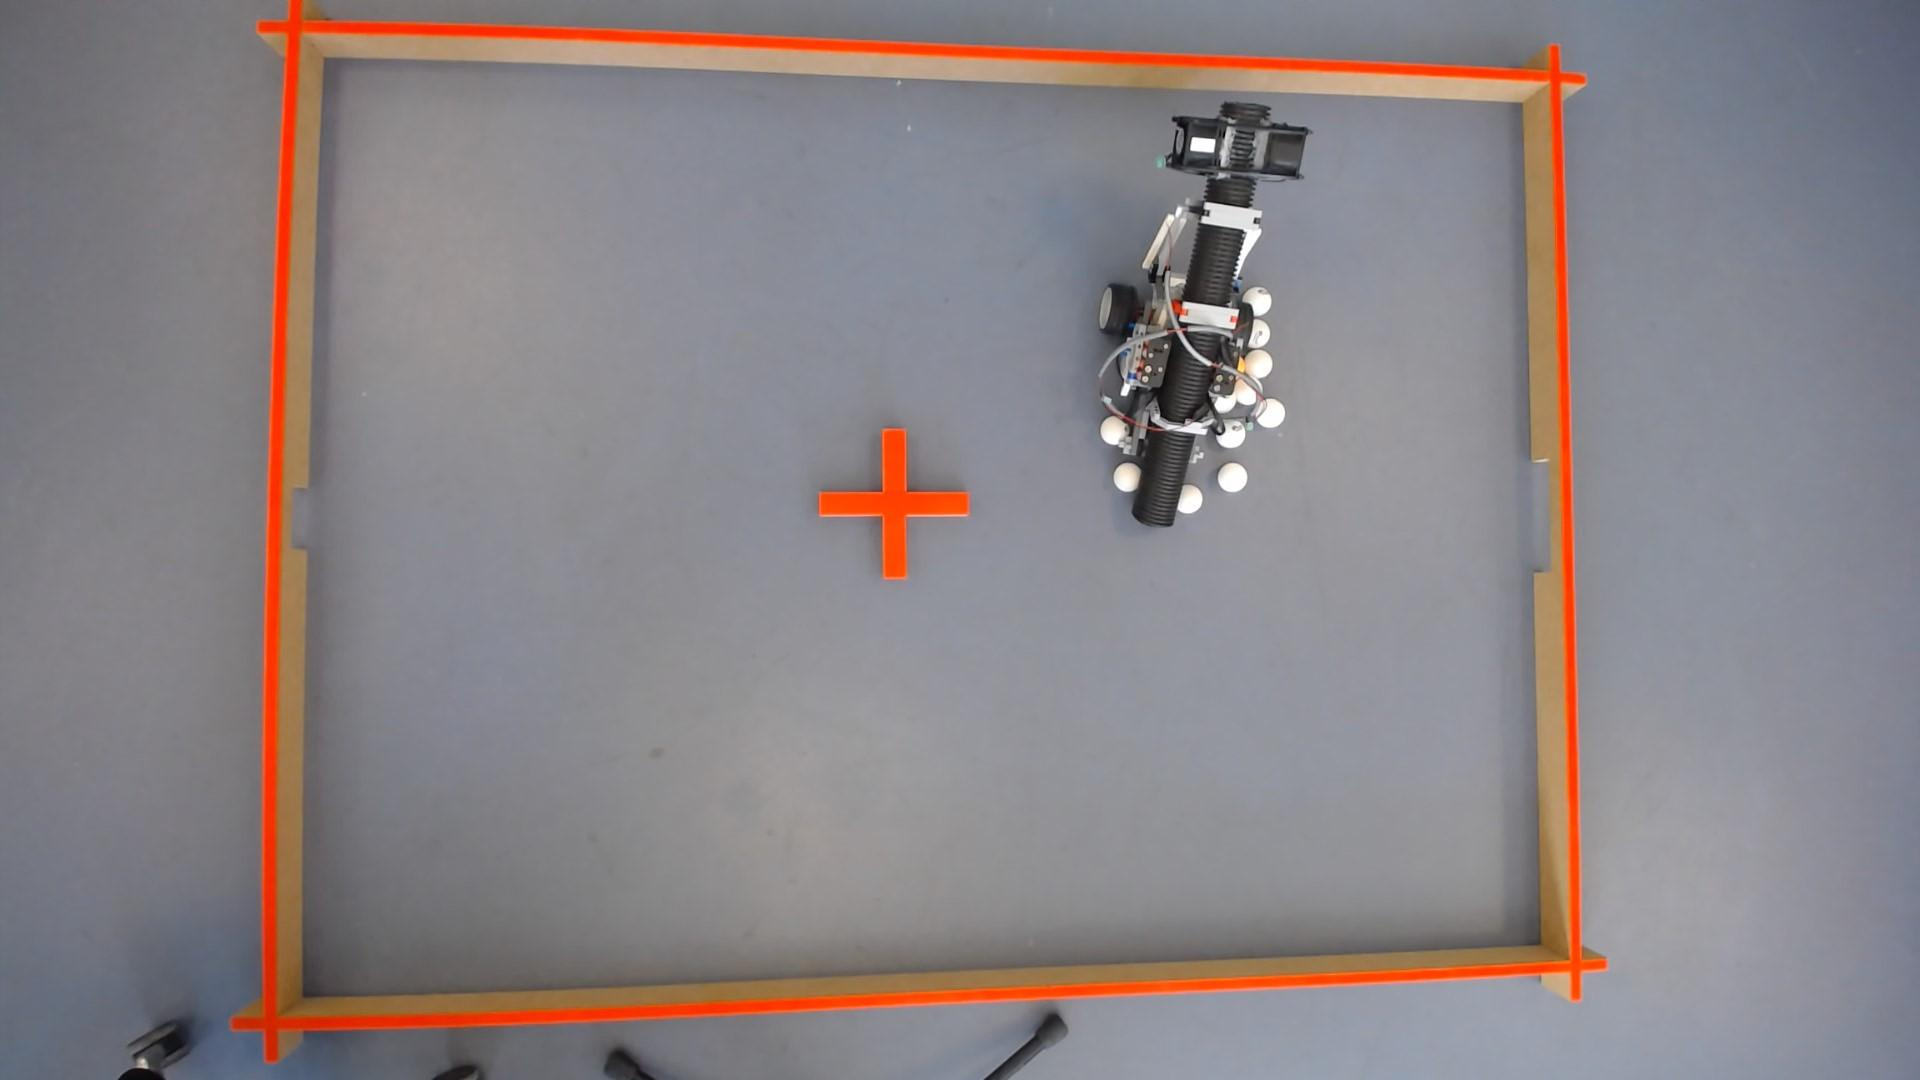robot: (1100, 99, 1309, 525)
white: (1254, 396, 1287, 427), (1242, 347, 1275, 377), (1244, 285, 1274, 315), (1218, 462, 1249, 491), (1218, 419, 1249, 447), (1178, 483, 1205, 513), (1101, 415, 1130, 443), (1116, 462, 1142, 491), (1247, 316, 1273, 347), (1236, 377, 1262, 405), (1216, 394, 1240, 411)
